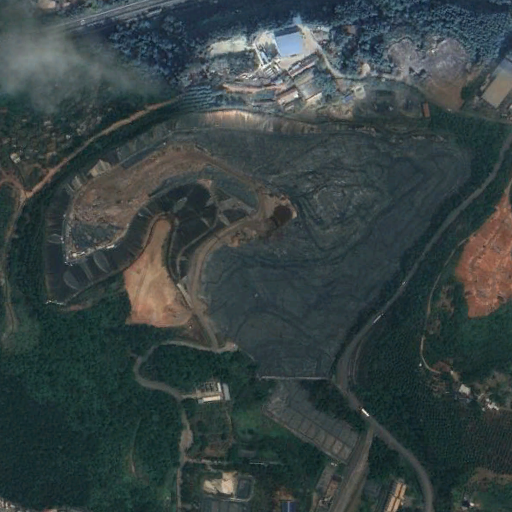lf: (58, 106, 470, 379)
